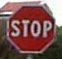stop: (4, 2, 56, 54)
